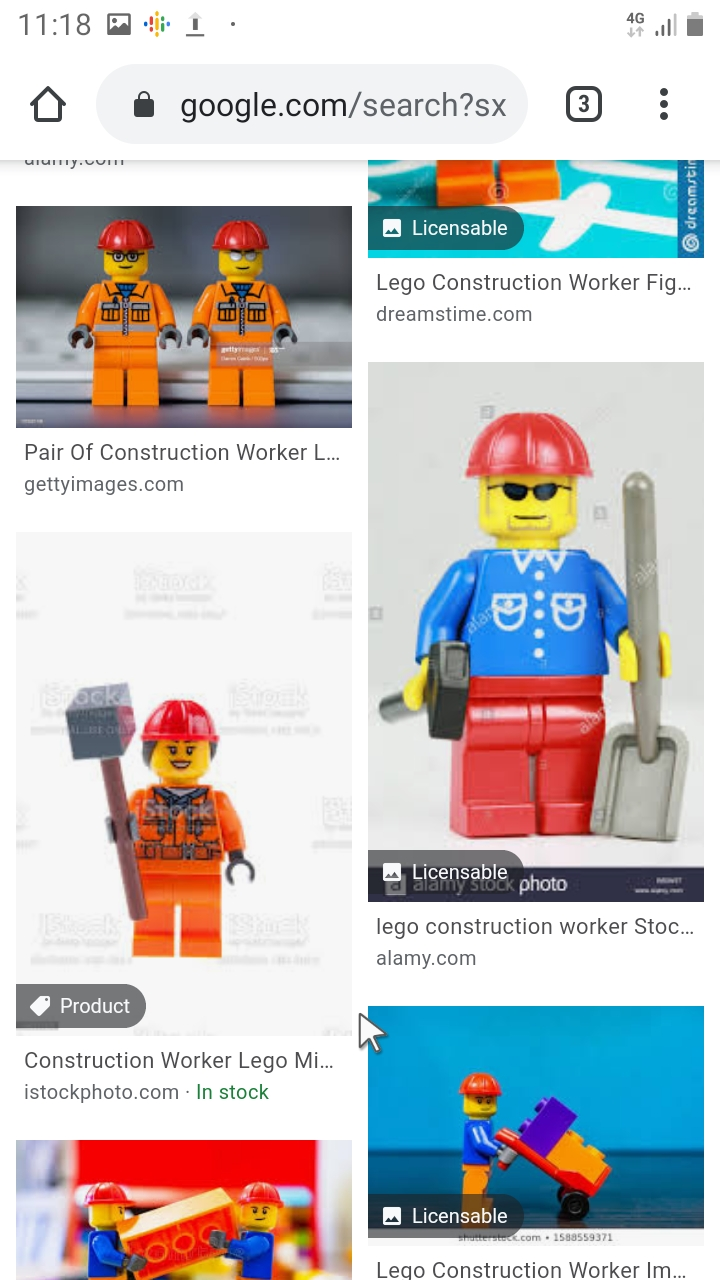pedestrian: (384, 402, 690, 843), (29, 661, 262, 972), (68, 212, 315, 417), (447, 1070, 513, 1221)
